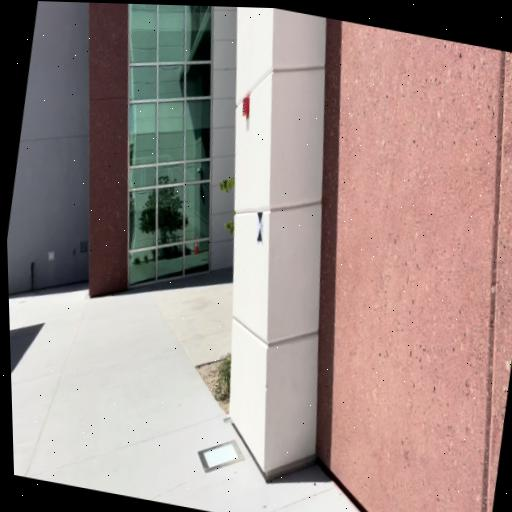target9: (256, 211, 263, 242)
